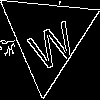W: (22, 11, 80, 73)
